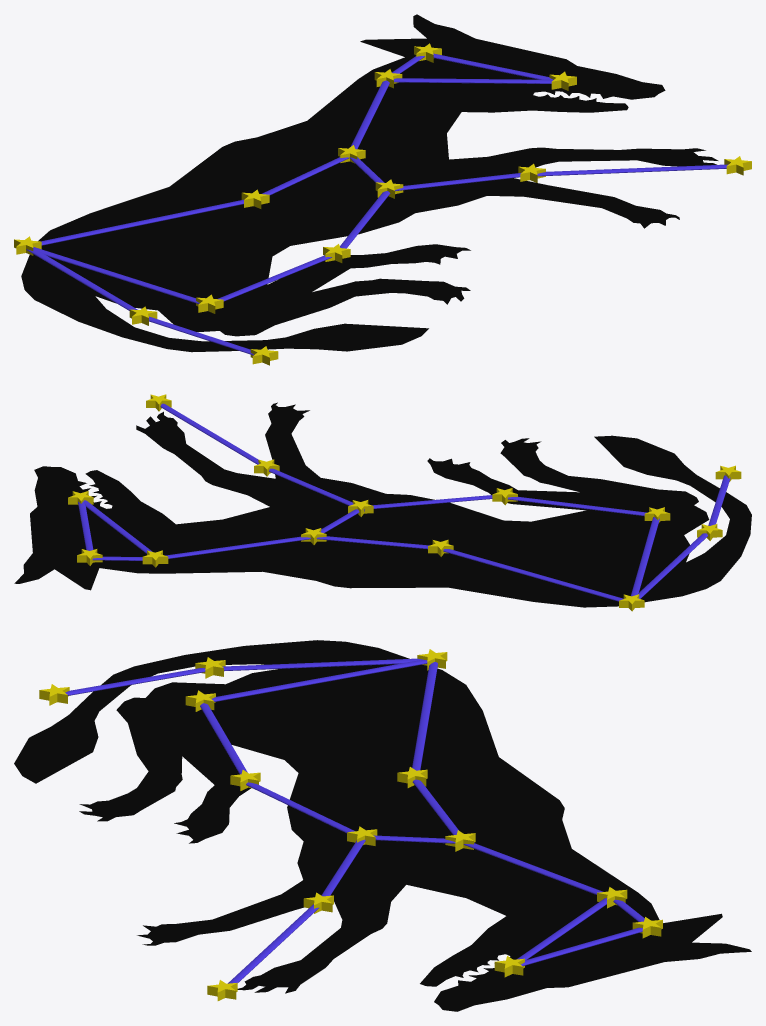
File: Ookami-za.glb
The picture shows the model from 3 angles, top to bottom: view 1: azimuth 30°, elevation 25°; view 2: azimuth 150°, elevation 25°; view 3: azimuth 270°, elevation 25°; orthographic projection. The views are drawn at different scales.
Parts seen in each view (by area): view 1: 円, 円柱.011, 円柱.005, 円柱.012, 円柱.001, 円柱.013, 円柱.010, 円柱.006, 円柱.003, 円柱.004, 円柱.014; view 2: 円, 円柱.011, 円柱.004, 円柱.005, 円柱.010, 円柱.012, 円柱.013, 円柱.008, 円柱.009, 円柱.001, 円柱.006, 円柱.014 (+1 smaller); view 3: 円, 円柱.012, 円柱.013, 円柱.011, 円柱.004, 円柱.005, 円柱.014, 円柱.003, 円柱.008, 円柱.001, 円柱.010.
Part boxes in pixels (x1,y1,x2,y2): 円: (21,14,718,352); 円柱.011: (40,199,243,245); 円柱.005: (537,164,728,176); 円柱.012: (33,247,199,303); 円柱.001: (393,78,553,83); 円柱.013: (26,249,137,310); 円柱.010: (217,255,331,301); 円柱.006: (395,173,520,191); 円柱.003: (433,53,553,79); 円柱.004: (350,80,389,149); 円柱.014: (149,316,253,355); 円: (14,402,751,607); 円柱.011: (443,549,623,601); 円柱.004: (165,536,310,558); 円柱.005: (160,403,259,464); 円柱.010: (508,496,646,516); 円柱.012: (631,517,659,596); 円柱.013: (637,533,707,598); 円柱.008: (372,495,492,508); 円柱.009: (316,536,429,549); 円柱.001: (83,500,152,553); 円柱.006: (269,468,364,511); 円柱.014: (708,475,730,525); 円: (14,640,751,1011); 円柱.012: (211,660,427,701); 円柱.013: (222,658,423,671); 円柱.011: (412,662,437,770); 円柱.004: (463,843,603,894); 円柱.005: (228,904,318,983); 円柱.014: (65,668,205,695); 円柱.003: (521,927,642,966); 円柱.008: (246,782,354,833); 円柱.001: (517,898,606,960); 円柱.010: (200,703,247,774).
Bounding box in the file's own units: 80.63 × 0.8959 × 67.65.
